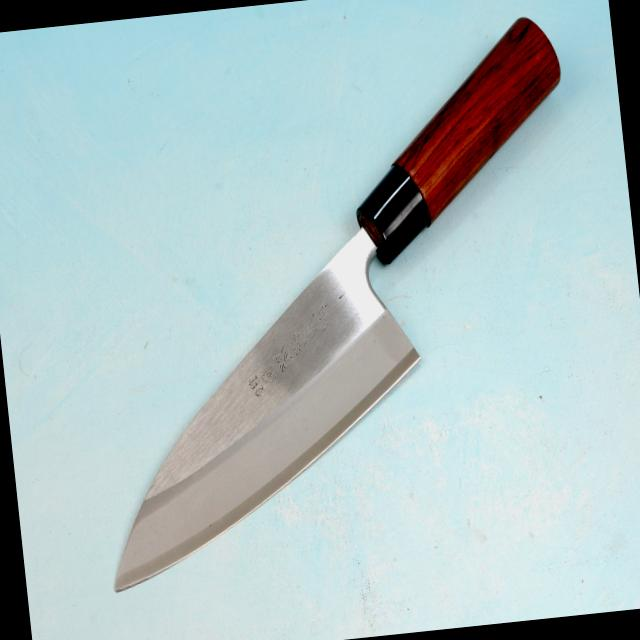knife: (35, 9, 618, 603)
